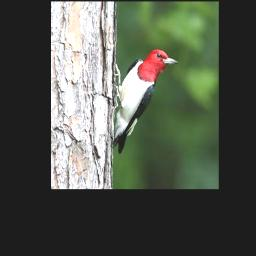Woodpecker: (110, 48, 181, 153)
